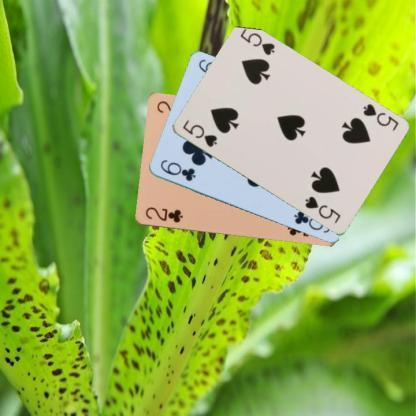2c: (142, 204, 184, 224)
5s: (360, 101, 400, 132), (180, 118, 218, 148)
6c: (158, 157, 196, 183)
